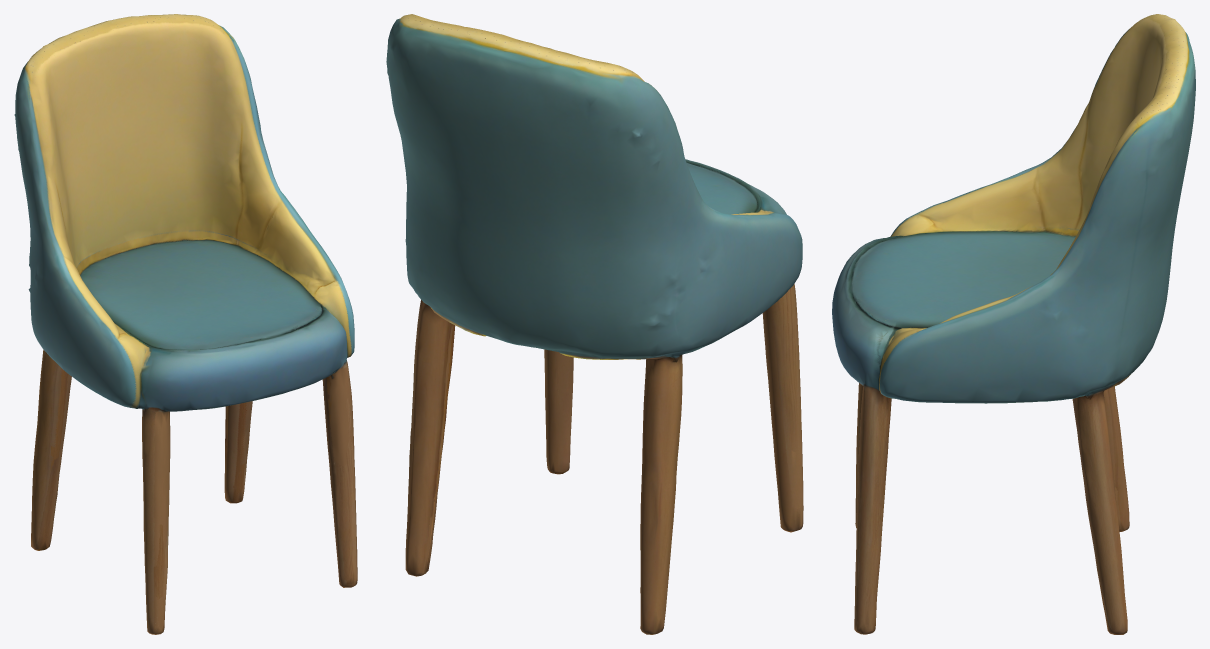
File: chair.glb
The picture shows the model from 3 angles, left to right: view 1: azimuth 30°, elevation 25°; view 2: azimuth 150°, elevation 25°; view 3: azimuth 270°, elevation 25°; orthographic projection. The views are drawn at different scales.
Bounding box in the file's own units: 36421 × 65665 × 40701.
1 material, 1 textured.
